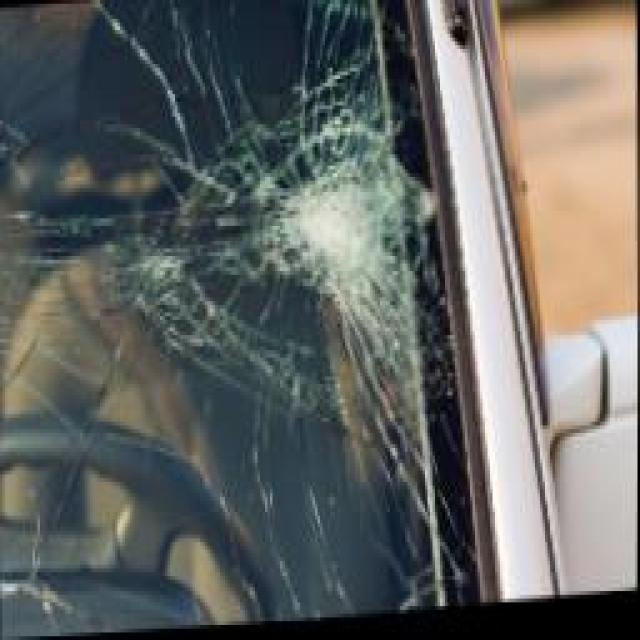Windshield: (20, 0, 447, 639)
